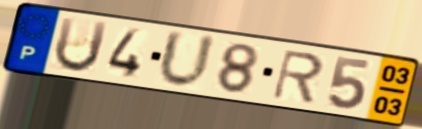4: (105, 27, 145, 81)
5: (326, 54, 375, 111)
8: (215, 42, 262, 95)
R: (269, 48, 327, 106)
U: (155, 27, 219, 91), (51, 14, 111, 75)
